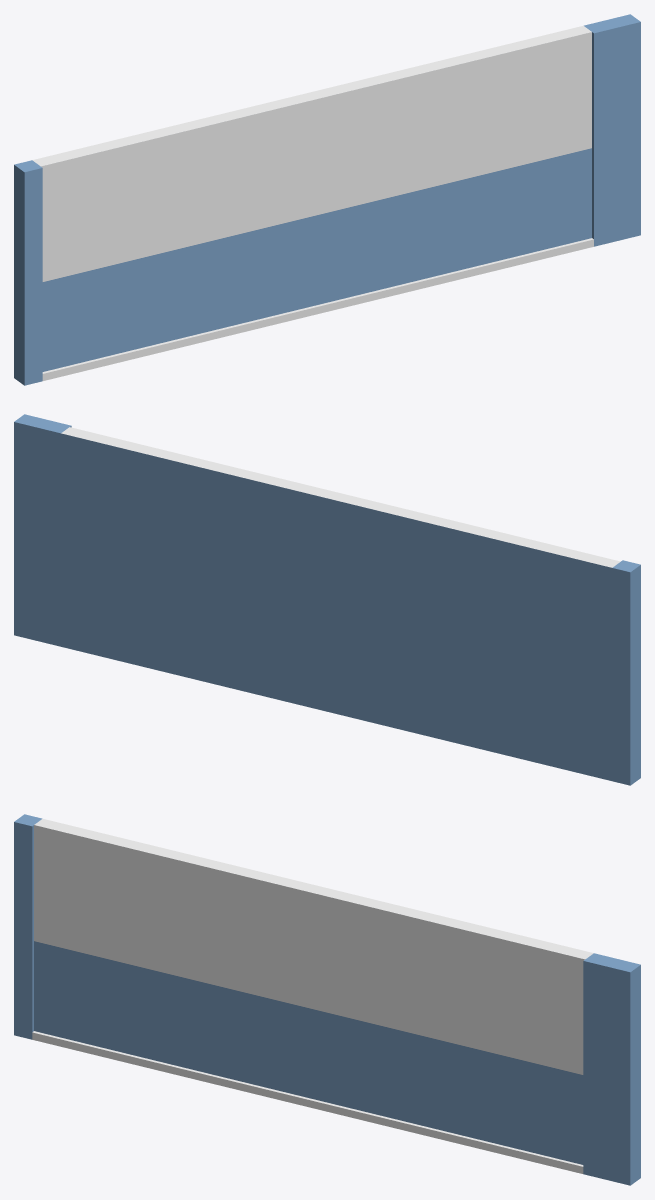
Rendered from Wall 3.fbx.
3 views of the same model, one above another, from view 1: azimuth 30°, elevation 25°; view 2: azimuth 150°, elevation 25°; view 3: azimuth 330°, elevation 25° (orthographic).
Parts seen in each view (by area): view 1: wall 3; view 2: wall 3; view 3: wall 3.
Part boxes in pixels (bbox=[...]): wall 3: bbox=[14, 14, 640, 385]; wall 3: bbox=[14, 414, 640, 785]; wall 3: bbox=[14, 814, 640, 1185].
Bounding box in the file's own units: 768 × 254 × 22.68.
2 materials, 1 textured.
